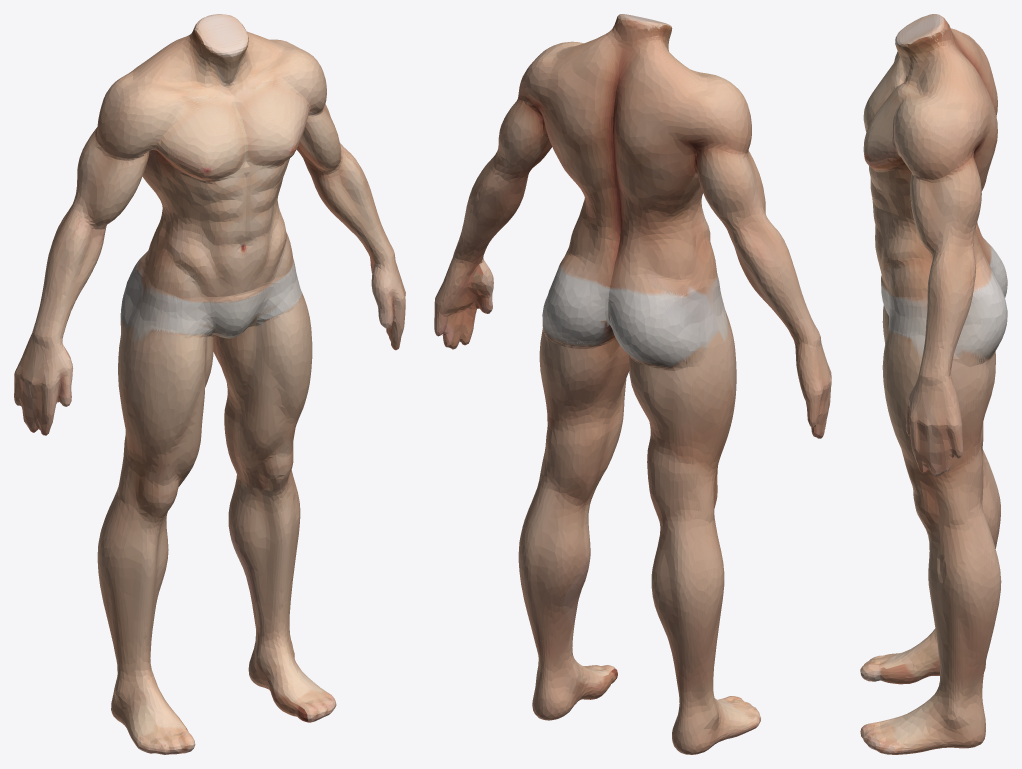
File: shared_male_source.glb
3 renders of one model, left to right at view 1: azimuth 30°, elevation 25°; view 2: azimuth 150°, elevation 25°; view 3: azimuth 270°, elevation 25°, orthographic. The views are drawn at different scales.
Parts seen in each view (by area): view 1: temp_mesh.ply; view 2: temp_mesh.ply; view 3: temp_mesh.ply.
Boxes of the visible parts, <box> form: temp_mesh.ply: <box>14,14,405,754</box>; temp_mesh.ply: <box>434,14,831,754</box>; temp_mesh.ply: <box>860,14,1007,754</box>.
Size of the model in its own units: 1.13 by 1.97 by 0.381.
Materials: 1 (1 with a texture image).
